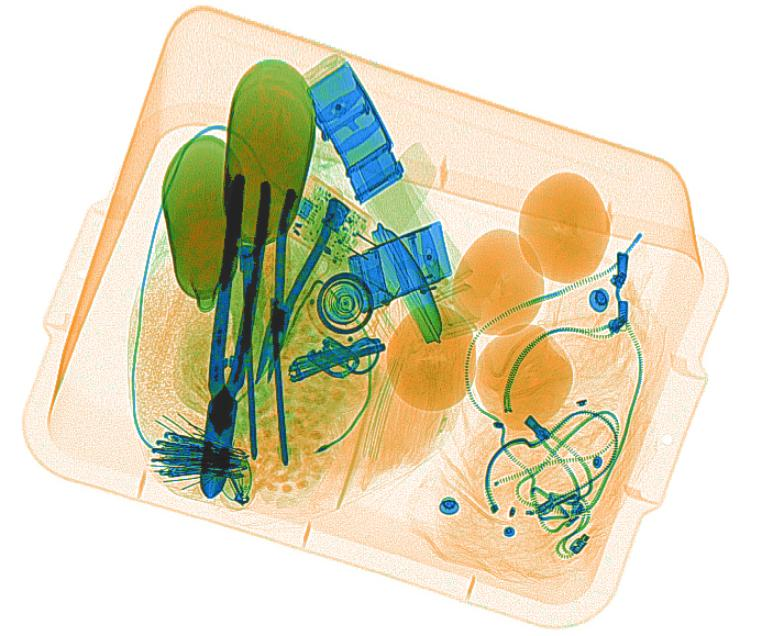scissors: (199, 172, 272, 499), (306, 334, 361, 379)
